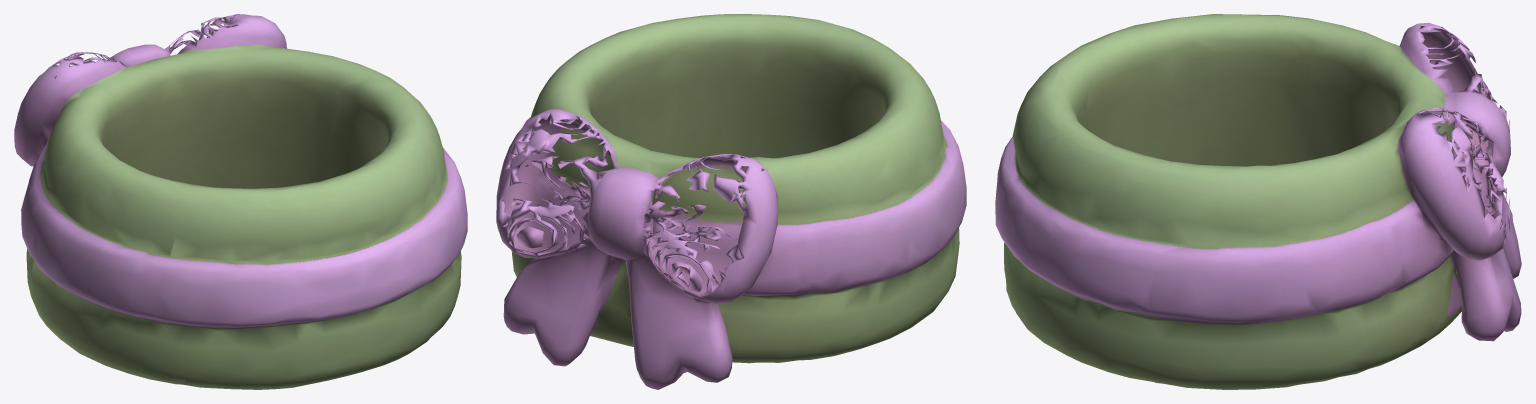
Rendered from tail_ribbon.glb.
The picture shows the model from 3 angles, left to right: view 1: azimuth 30°, elevation 25°; view 2: azimuth 150°, elevation 25°; view 3: azimuth 270°, elevation 25°; orthographic projection. The views are drawn at different scales.
Parts seen in each view (by area): view 1: tail_ribbon; view 2: tail_ribbon; view 3: tail_ribbon.
Part boxes in pixels (x1,y1,x2,y2): tail_ribbon: (14,14,467,389); tail_ribbon: (496,14,966,389); tail_ribbon: (995,14,1521,389).
Size of the model in its own units: 0.8781 by 0.454 by 0.9392.
Materials: 1 (1 with a texture image).
